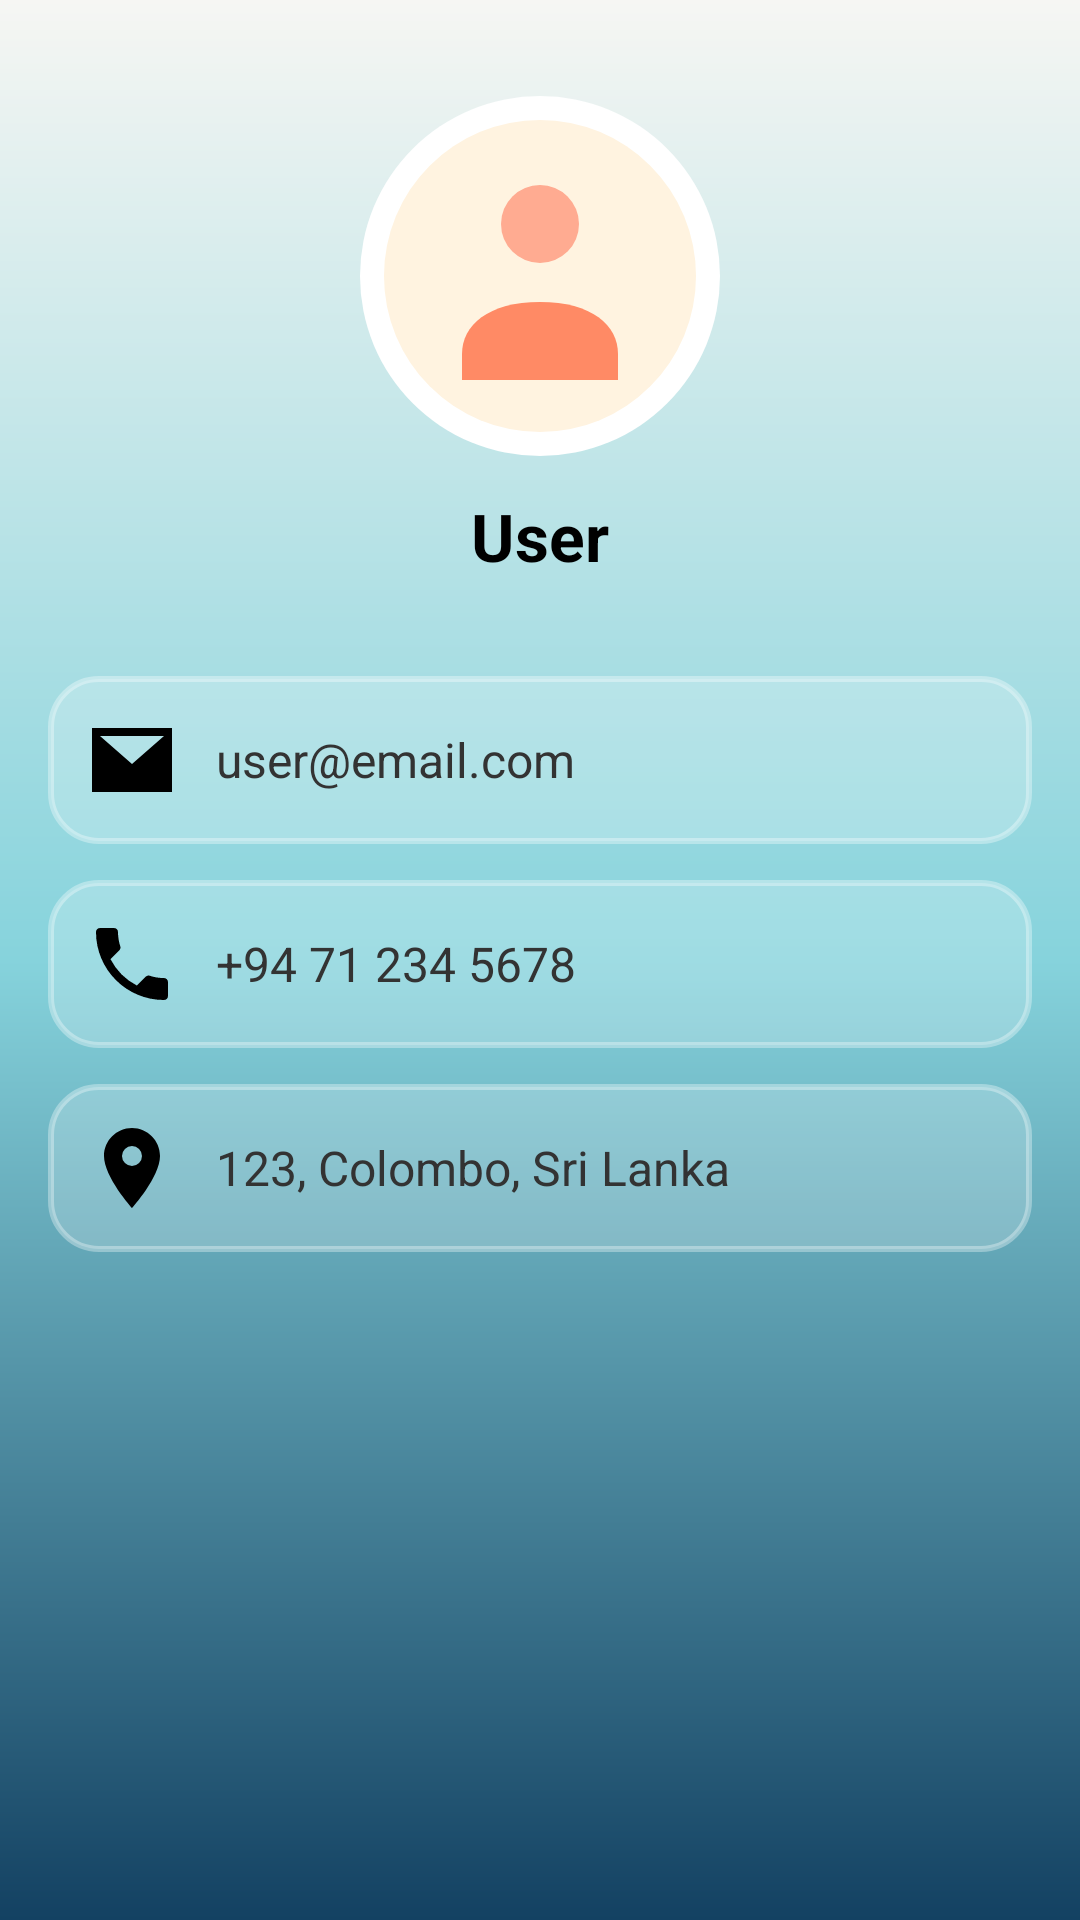

Icons on this 1080px x 1920px Android screen, each with its box as (x1=x1, y1=y1, x2=x2, y2=y2):
Address: (x1=104, y1=1128, x2=160, y2=1208)
Phone: (x1=96, y1=928, x2=168, y2=1000)
